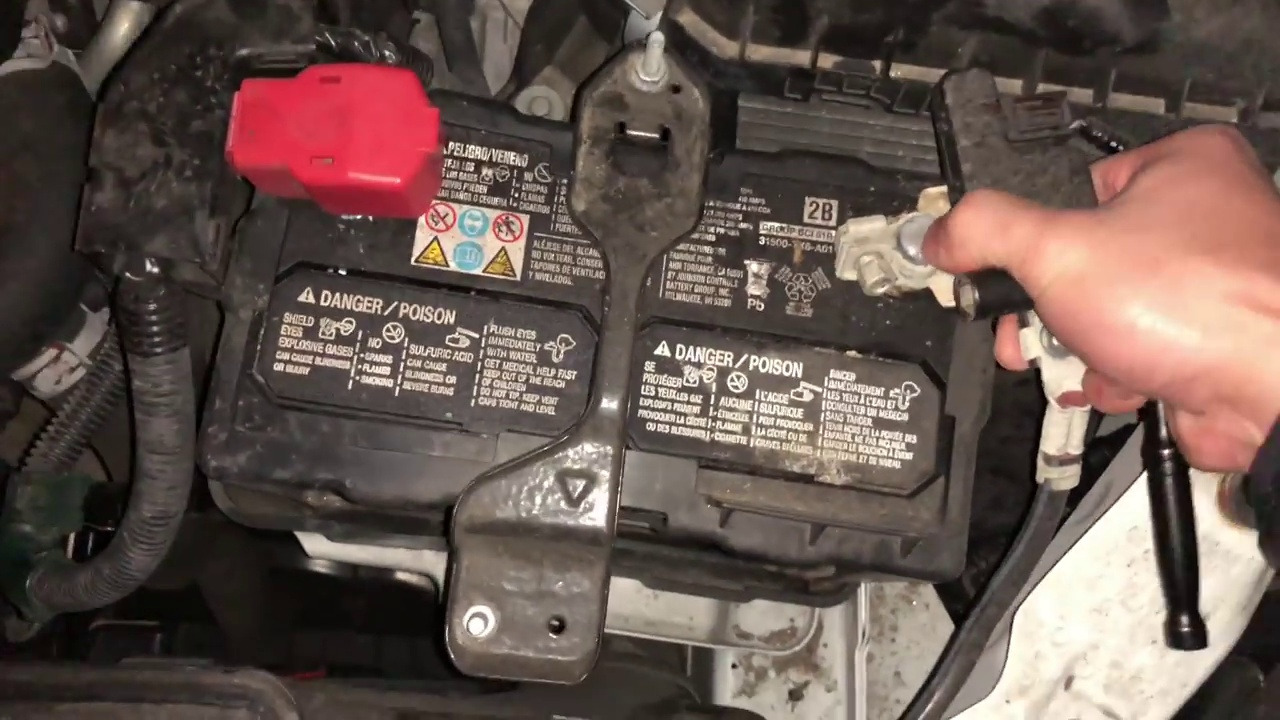battery: (207, 66, 993, 569)
neg_connected: (815, 152, 989, 322)
neg_touched: (847, 162, 1209, 395)
pos_connected: (215, 61, 449, 232)
